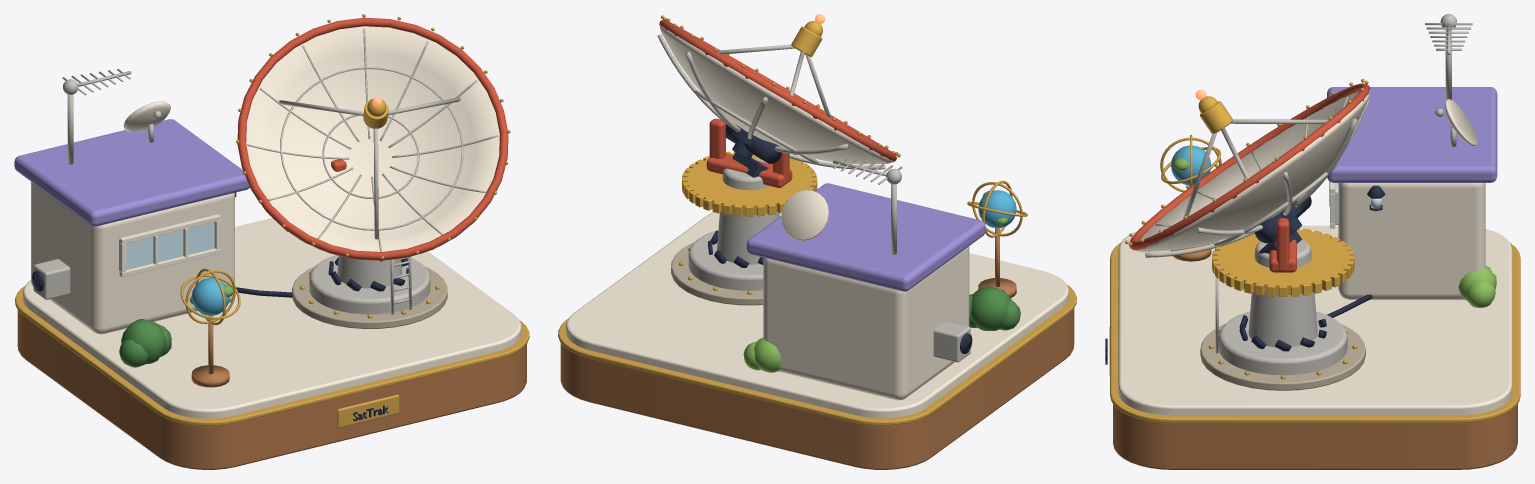
Rendered from sattrak.glb.
The picture shows the model from 3 angles, left to right: view 1: azimuth 30°, elevation 25°; view 2: azimuth 150°, elevation 25°; view 3: azimuth 270°, elevation 25°; orthographic projection. The views are drawn at different scales.
Visible parts, largest first — view 1: SatTrak_Bowl, SatTrak_Deck, SatTrak, SatTrak_Hut, SatTrak_HutRoof, SatTrak_Rim, SatTrak_Pedestal, SatTrak_Trim, SatTrak_XSeams, SatTrak_XFoot, SatTrak_HutWindow, SatTrak_XWindowBars (+12 smaller); view 2: SatTrak_Deck, SatTrak, SatTrak_Hut, SatTrak_HutRoof, SatTrak_Bowl, SatTrak_Trim, SatTrak_Pedestal, SatTrak_XGear, SatTrak_Rim, SatTrak_XRibs, SatTrak_Yoke, SatTrak_XRoofDish (+11 smaller); view 3: SatTrak_Deck, SatTrak, SatTrak_Hut, SatTrak_HutRoof, SatTrak_Bowl, SatTrak_Pedestal, SatTrak_Trim, SatTrak_XGear, SatTrak_Rim, SatTrak_XFoot, SatTrak_XRibs, SatTrak_Struts (+10 smaller).
Part boxes in pixels (x1,y1,x2,y2): SatTrak_Bowl: (246,26,499,260); SatTrak_Deck: (22,218,521,418); SatTrak: (17,310,526,469); SatTrak_Hut: (31,182,234,334); SatTrak_HutRoof: (14,119,249,226); SatTrak_Rim: (237,17,508,260); SatTrak_Pedestal: (309,255,430,314); SatTrak_Trim: (15,286,529,425); SatTrak_XSeams: (247,28,498,251); SatTrak_XFoot: (292,266,447,328); SatTrak_HutWindow: (119,222,214,271); SatTrak_XWindowBars: (119,214,220,277); SatTrak_Deck: (566,212,1068,418); SatTrak: (560,308,1074,469); SatTrak_Hut: (763,246,969,400); SatTrak_HutRoof: (746,183,985,291); SatTrak_Bowl: (659,24,893,164); SatTrak_Trim: (558,285,1076,425); SatTrak_Pedestal: (688,158,779,290); SatTrak_XGear: (682,151,817,216); SatTrak_Rim: (659,20,896,161); SatTrak_XRibs: (657,34,885,169); SatTrak_Yoke: (706,118,792,187); SatTrak_XRoofDish: (781,190,828,240); SatTrak_Deck: (1118,225,1512,415); SatTrak: (1113,404,1517,469); SatTrak_Hut: (1338,183,1485,299); SatTrak_HutRoof: (1327,87,1497,182); SatTrak_Bowl: (1133,90,1370,252); SatTrak_Pedestal: (1218,239,1347,375); SatTrak_Trim: (1110,242,1520,423); SatTrak_XGear: (1212,228,1354,296); SatTrak_Rim: (1129,83,1370,250); SatTrak_XFoot: (1200,324,1365,390); SatTrak_XRibs: (1145,99,1369,257); SatTrak_Struts: (1182,119,1328,219).
Size of the model in its own units: 5.01 by 4 by 4.51.
